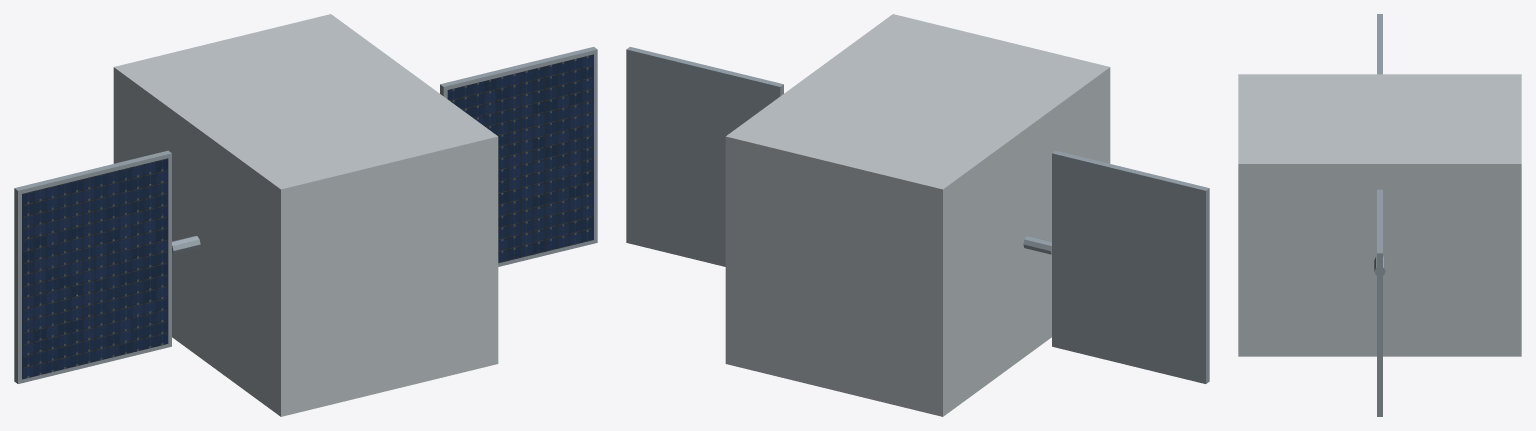
The model's file is ref-cast3000b-41907.glb.
3 views of the same model, side by side, from view 1: azimuth 30°, elevation 25°; view 2: azimuth 150°, elevation 25°; view 3: azimuth 270°, elevation 25° (orthographic). The views are drawn at different scales.
Visible parts, largest first — view 1: Spacecraft body, Photovoltaic laminates (×2), Array frame (×2); view 2: Spacecraft body, Array frame (×2); view 3: Spacecraft body, Array frame (×2).
Boxes of the visible parts, left/top/right/bottom form: Spacecraft body: left=113, top=14, right=498, bottom=416; Photovoltaic laminates (×2): left=22, top=54, right=593, bottom=379; Array frame (×2): left=14, top=47, right=597, bottom=383; Spacecraft body: left=725, top=14, right=1110, bottom=416; Array frame (×2): left=626, top=47, right=1209, bottom=383; Spacecraft body: left=1238, top=74, right=1521, bottom=356; Array frame (×2): left=1377, top=14, right=1382, bottom=416.
Size of the model in its own units: 4 by 1.5 by 2.
Materials: 3 (1 with a texture image).
